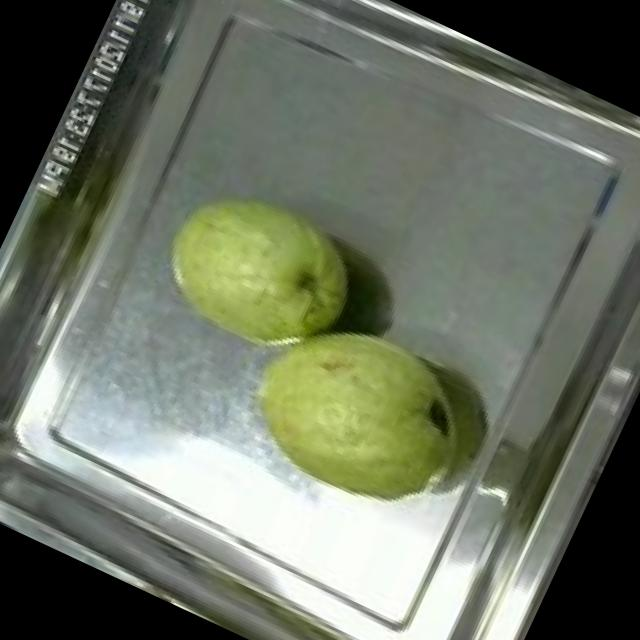Fruit: (215, 279, 508, 548), (131, 154, 388, 390)
